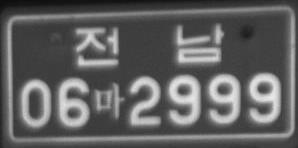0: (20, 78, 52, 128)
2: (130, 75, 162, 126)
6: (57, 77, 90, 128)
9: (167, 73, 202, 125), (248, 71, 281, 124), (208, 73, 241, 124)
마: (93, 81, 124, 119)
전남_D: (75, 22, 226, 67)
